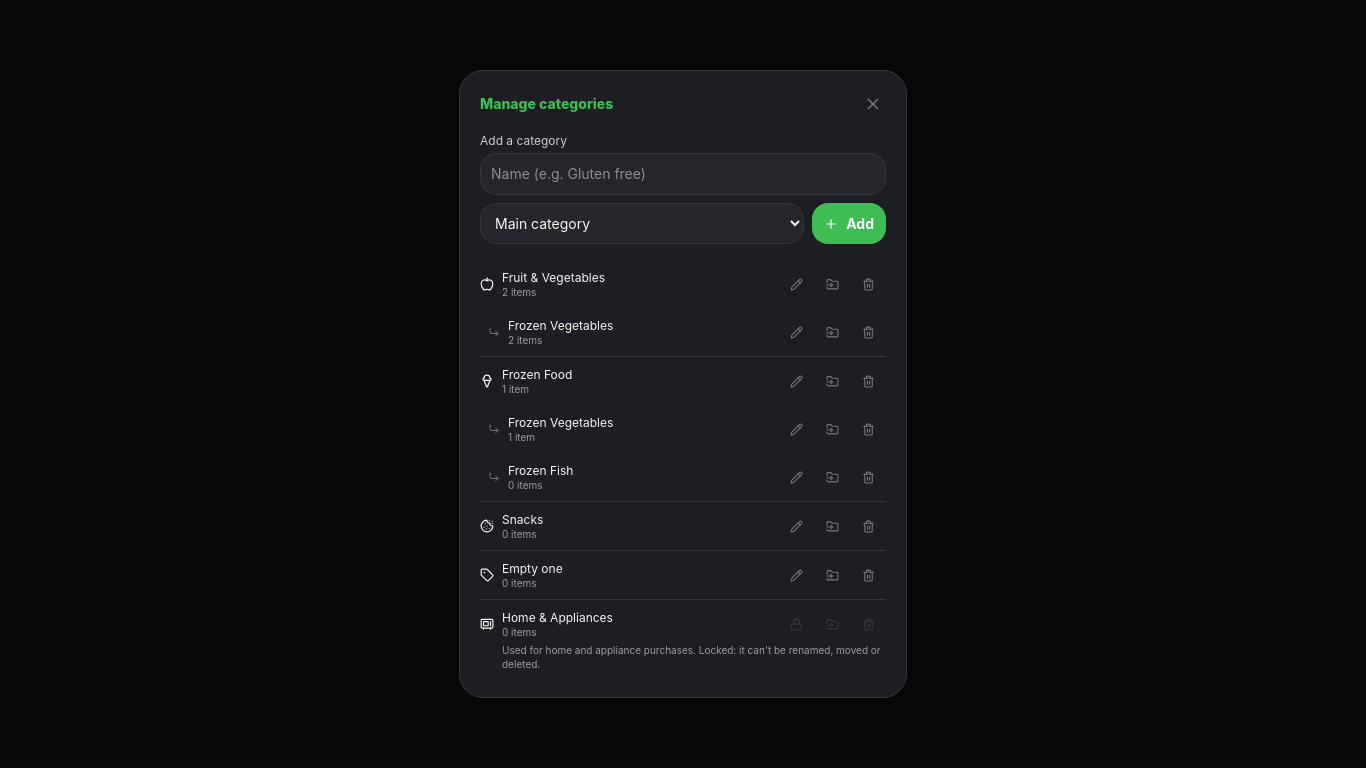
HOME Manage categories › explains why a main with sub-categories cannot become a sub-category
The image size is (1366, 768).
Click the button named "Move Frozen Food" at (832, 381), box [814,363,850,399]
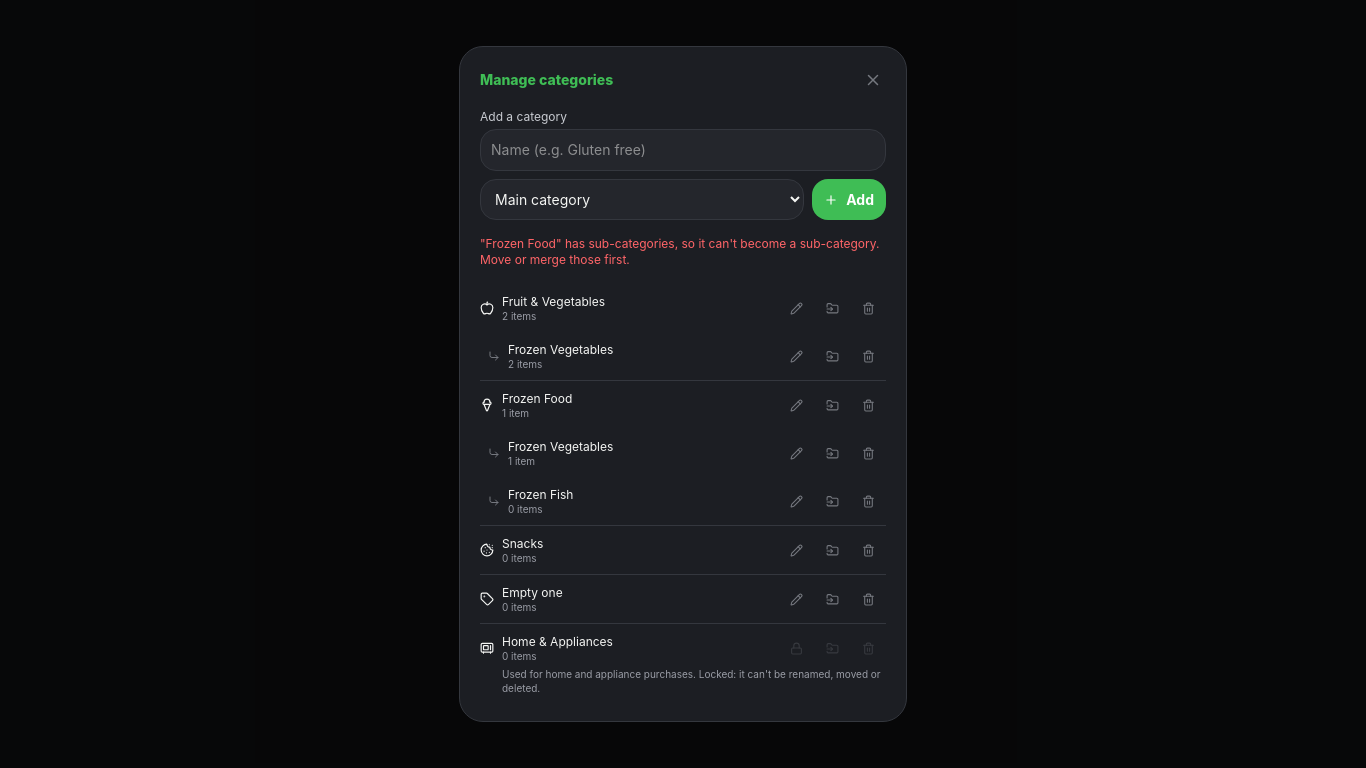
Check: the text "can't become a sub-category" is shown, box [480,236,880,267]
